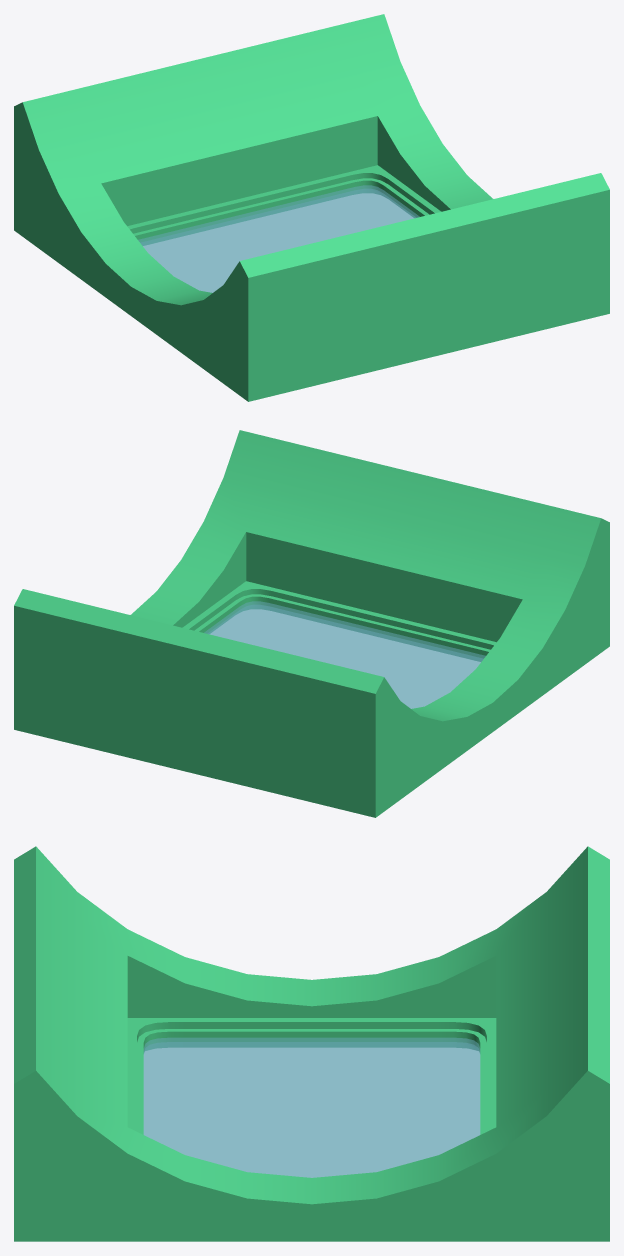
Rendered from RoundCorr_Ceiling_Win_A.FBX.
3 views of the same model, one above another, from view 1: azimuth 30°, elevation 25°; view 2: azimuth 150°, elevation 25°; view 3: azimuth 270°, elevation 25° (orthographic). The views are drawn at different scales.
Parts seen in each view (by area): view 1: RoundCorr_Ceiling_Win_A; view 2: RoundCorr_Ceiling_Win_A; view 3: RoundCorr_Ceiling_Win_A.
Part boxes in pixels (<box>): RoundCorr_Ceiling_Win_A: <box>14,14,609,401</box>; RoundCorr_Ceiling_Win_A: <box>14,430,609,817</box>; RoundCorr_Ceiling_Win_A: <box>14,846,609,1241</box>.
Bounding box in the file's own units: 400 × 142 × 449.
